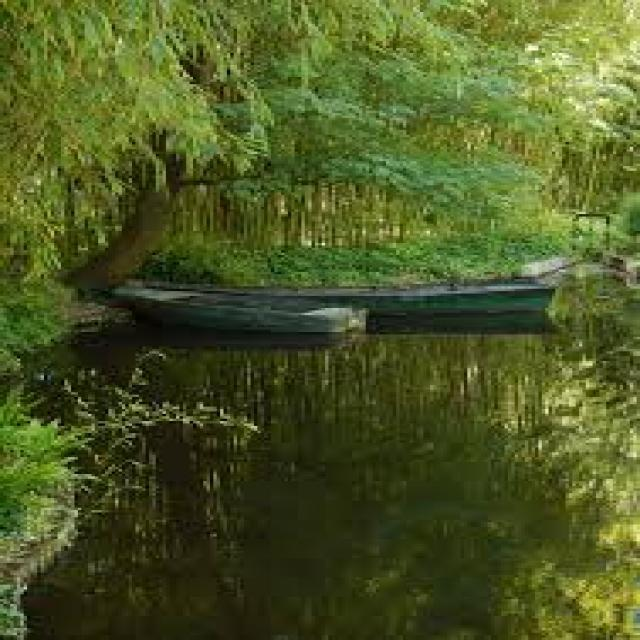ship2: (104, 282, 372, 338)
